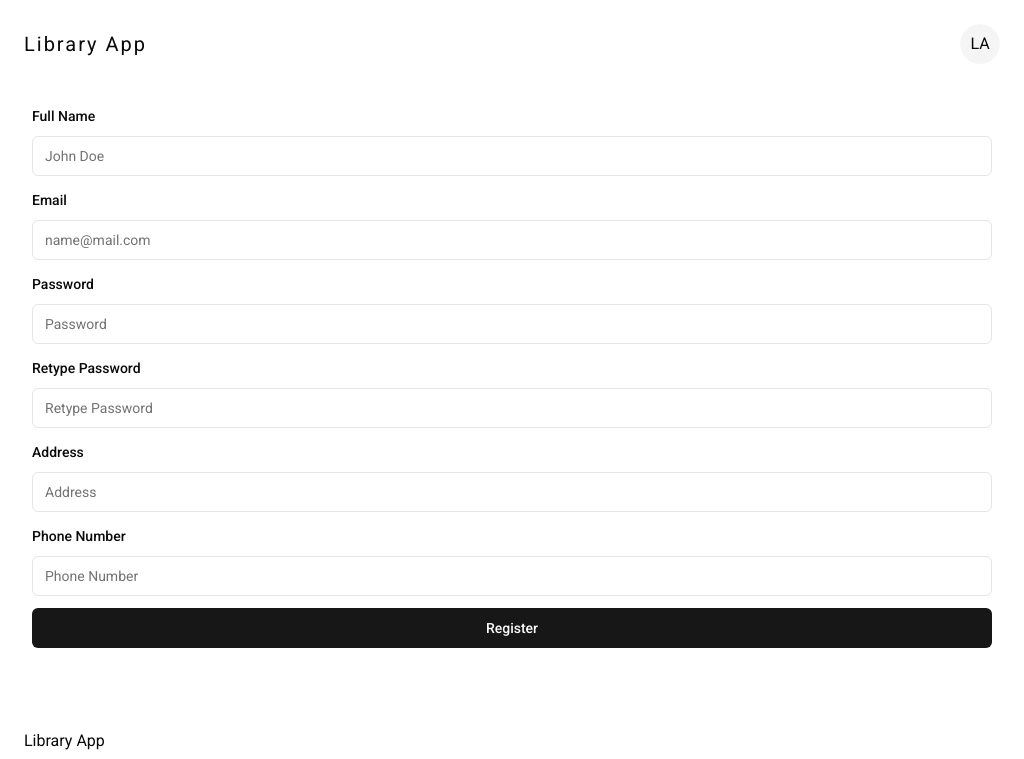
it: Register Page › Action for Register › should show error message when password is not match
Type "Test" into the field named "input-full-name" at coordinates (512, 156), box [32,136,992,176]
Type "test@mail.com" into the field named "input-email" at coordinates (512, 240), box [32,220,992,260]
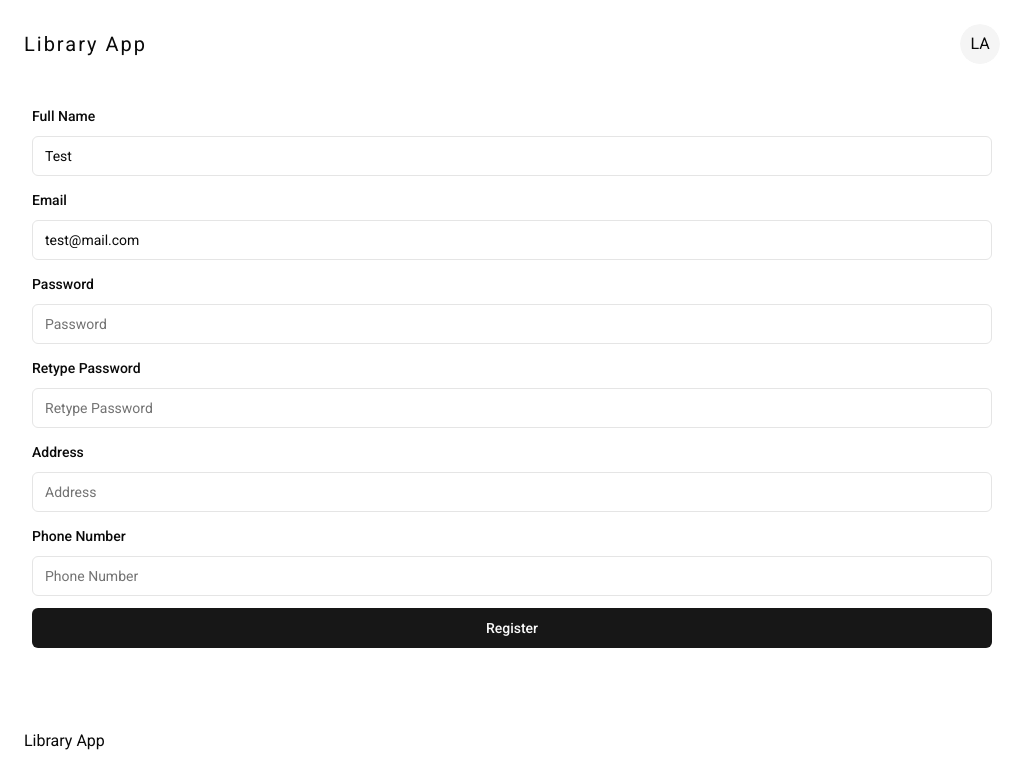
Type "abc5dasa" into the password field named "input-password" at coordinates (512, 324), box [32,304,992,344]
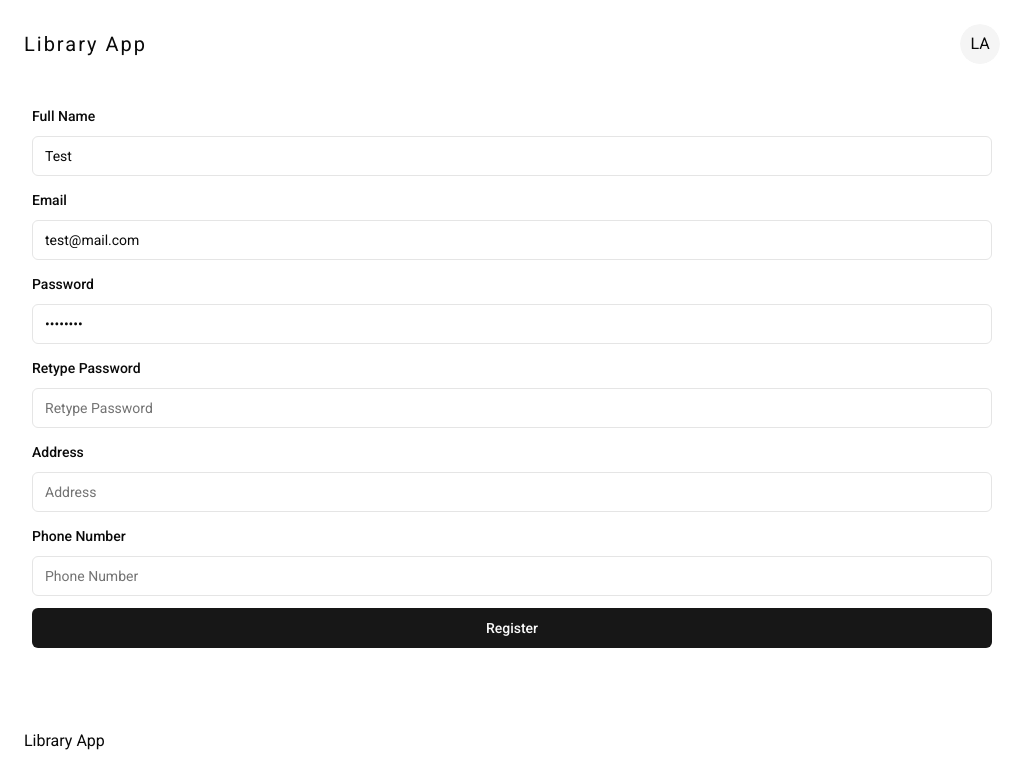
Type "abc5dasar" into the password field named "input-repassword" at coordinates (512, 408), box [32,388,992,428]
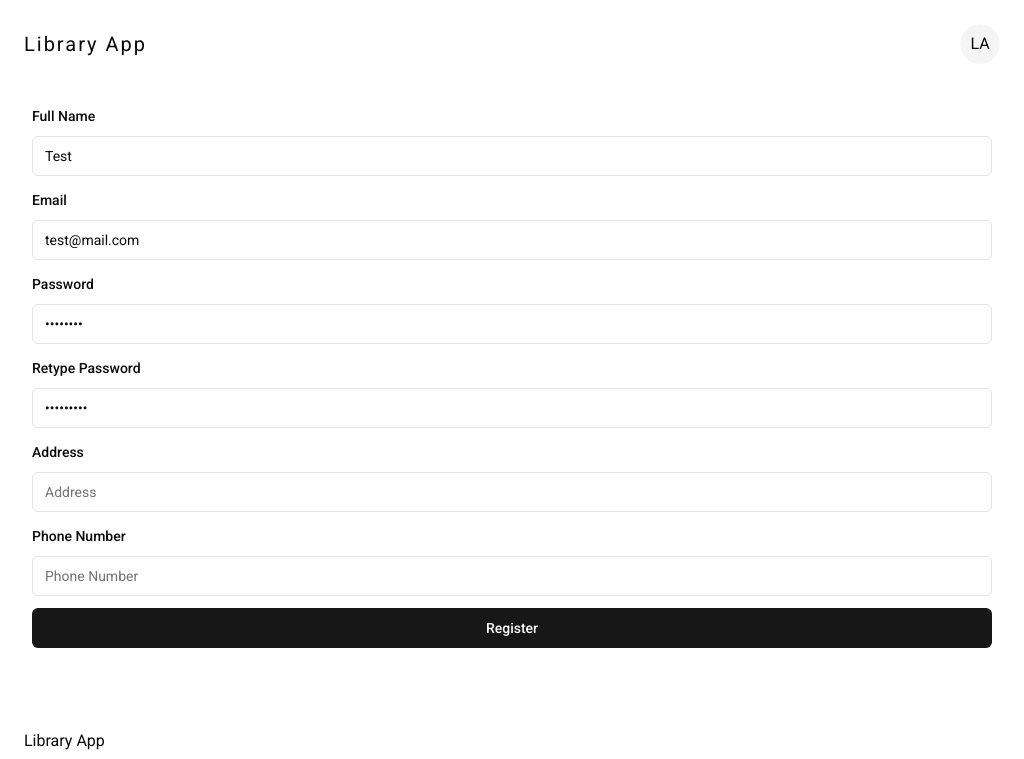
Type "test" into the field named "input-address" at coordinates (512, 492), box [32,472,992,512]
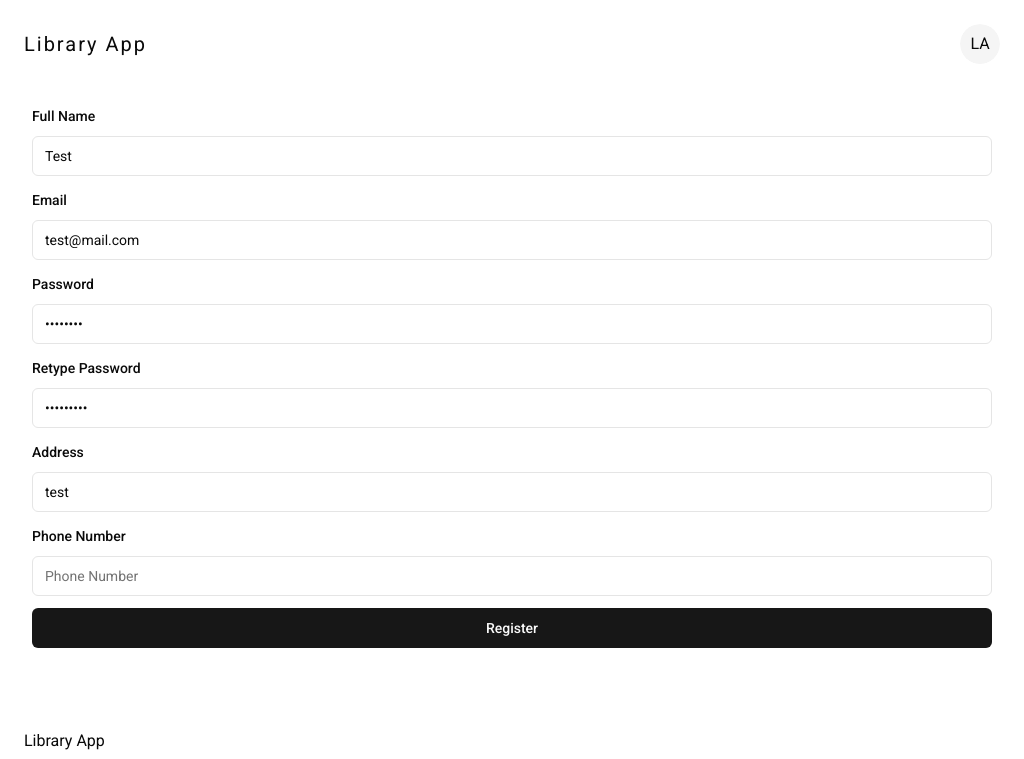
Type "6822222222222" into the field named "input-phone-number" at coordinates (512, 576), box [32,556,992,596]
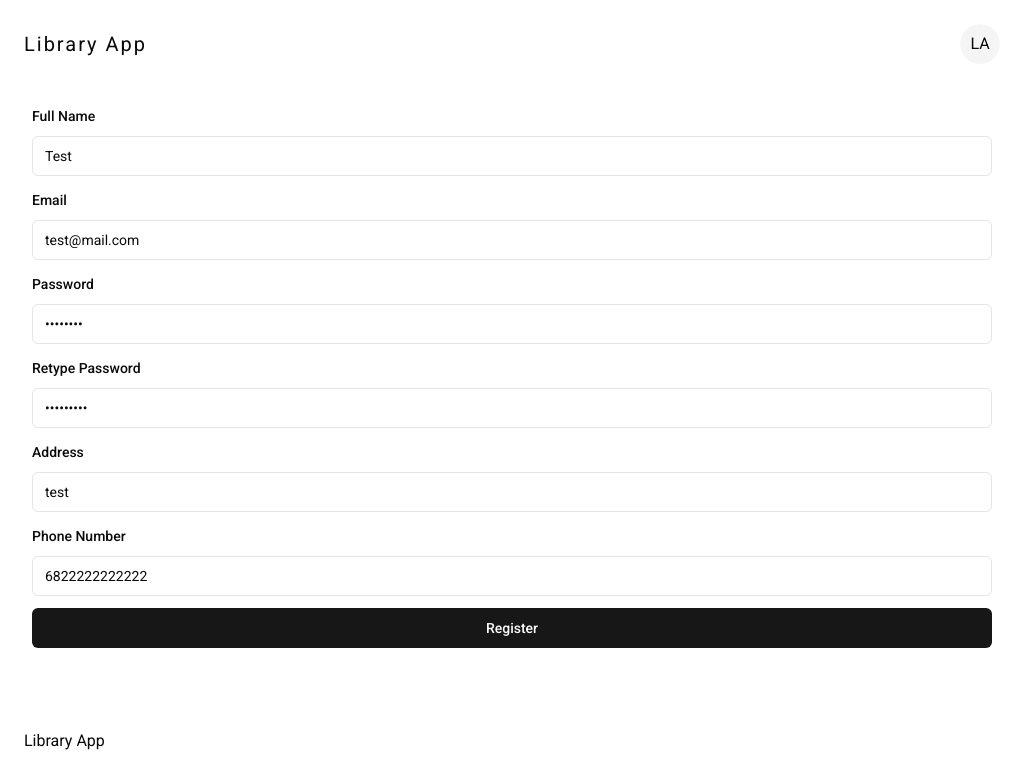
Click the button with aria-label "btn-submit" at coordinates (512, 628), box [32,608,992,648]
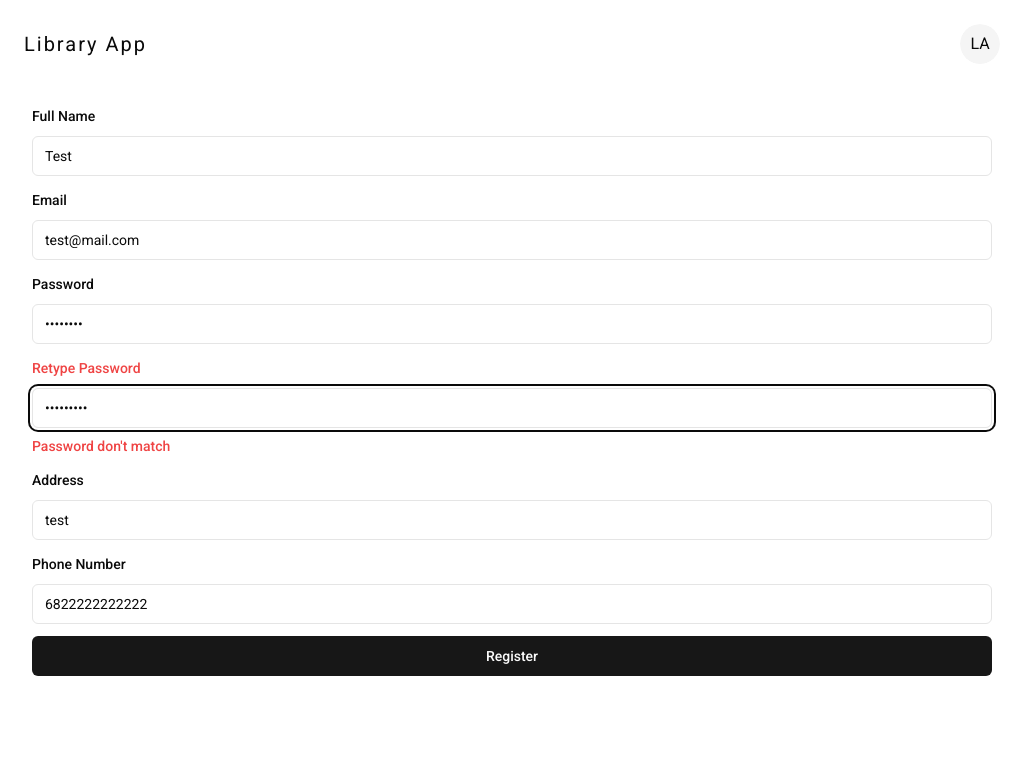
Check: the text "Password don't match" is shown, box [32,438,170,454]
